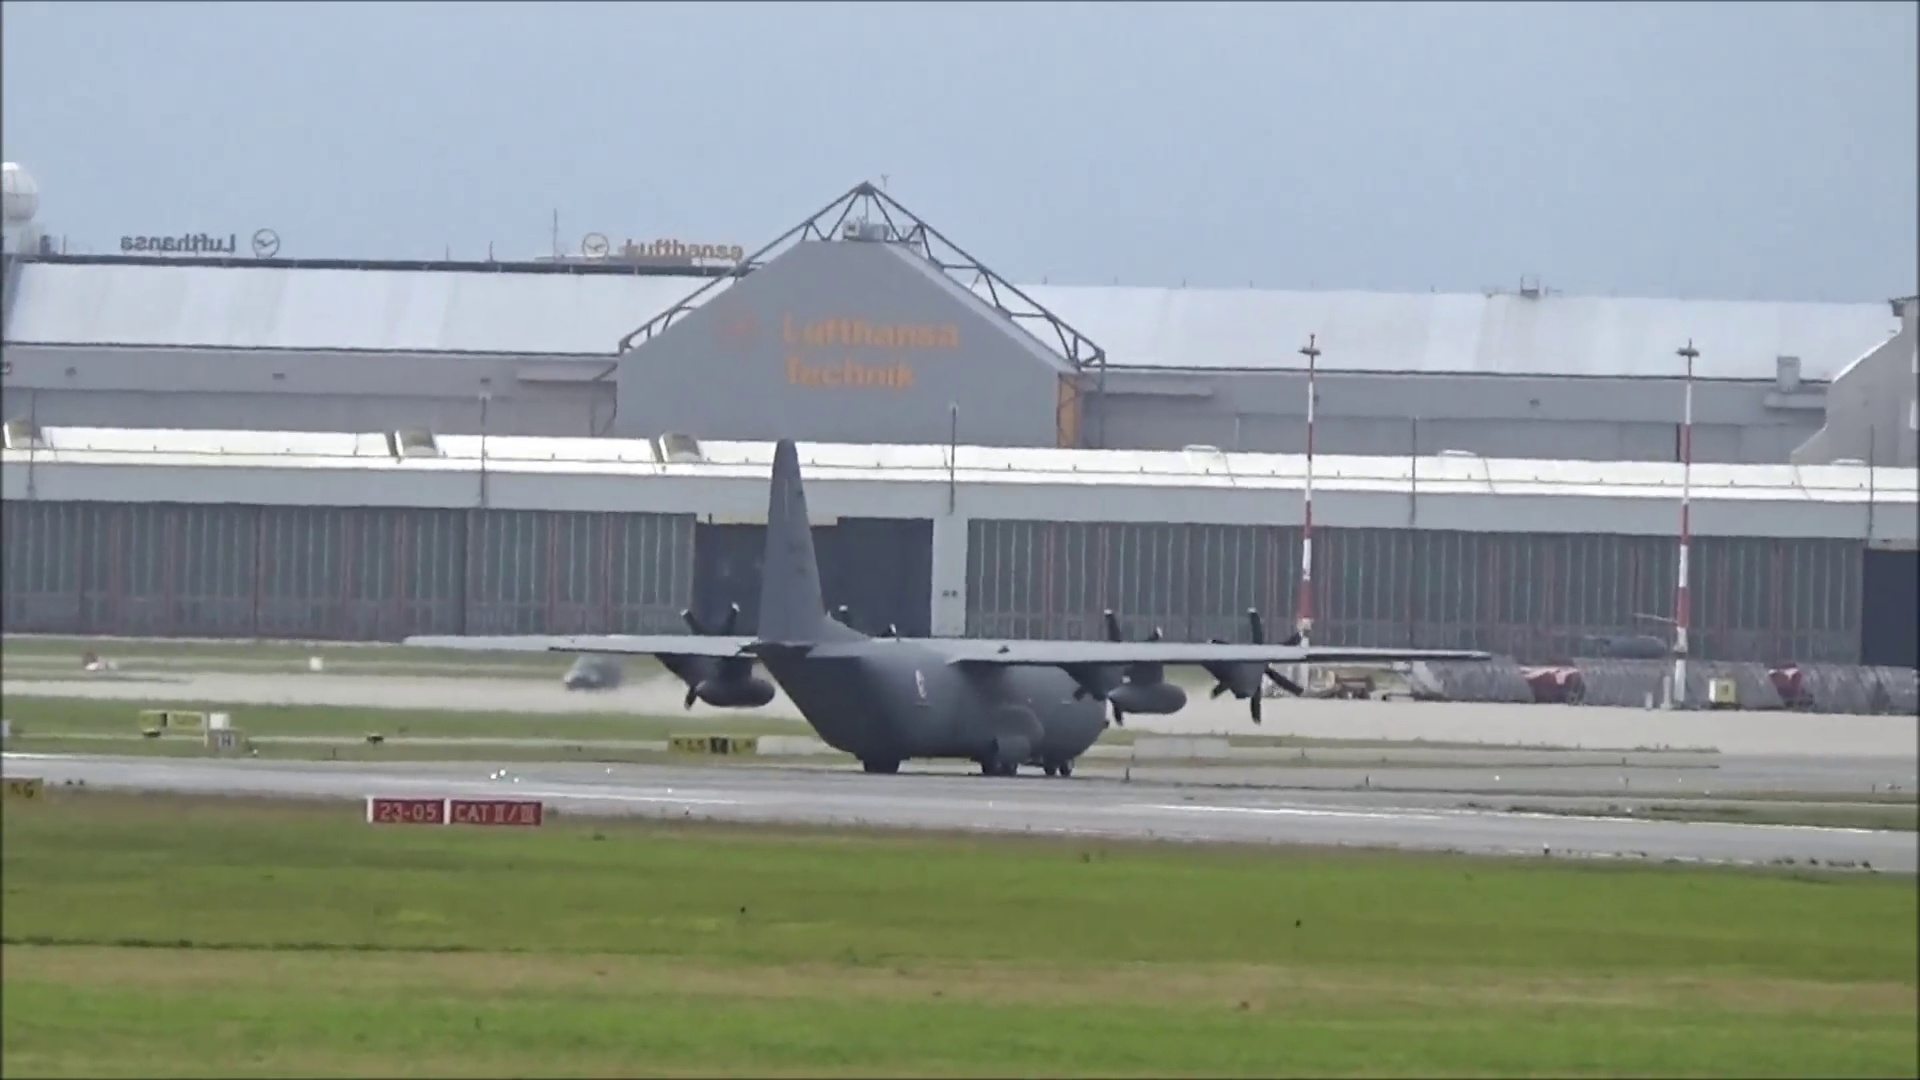Airplane: (394, 438, 1495, 766)
